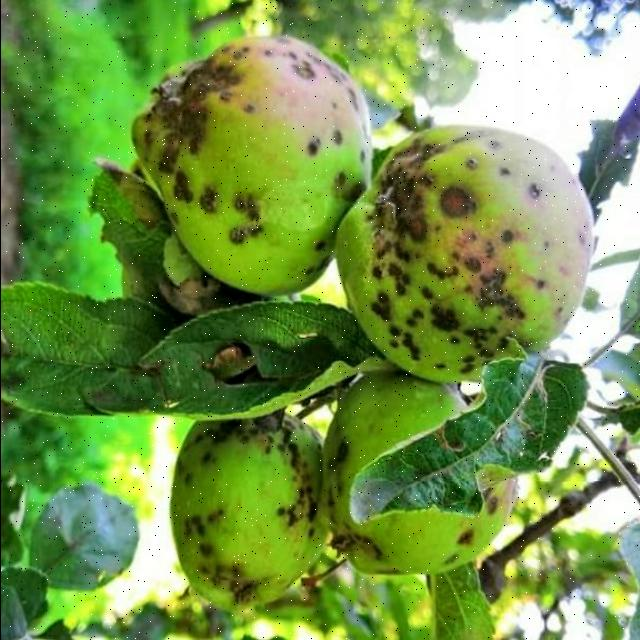SCAB: (161, 22, 597, 353), (162, 405, 544, 613)
